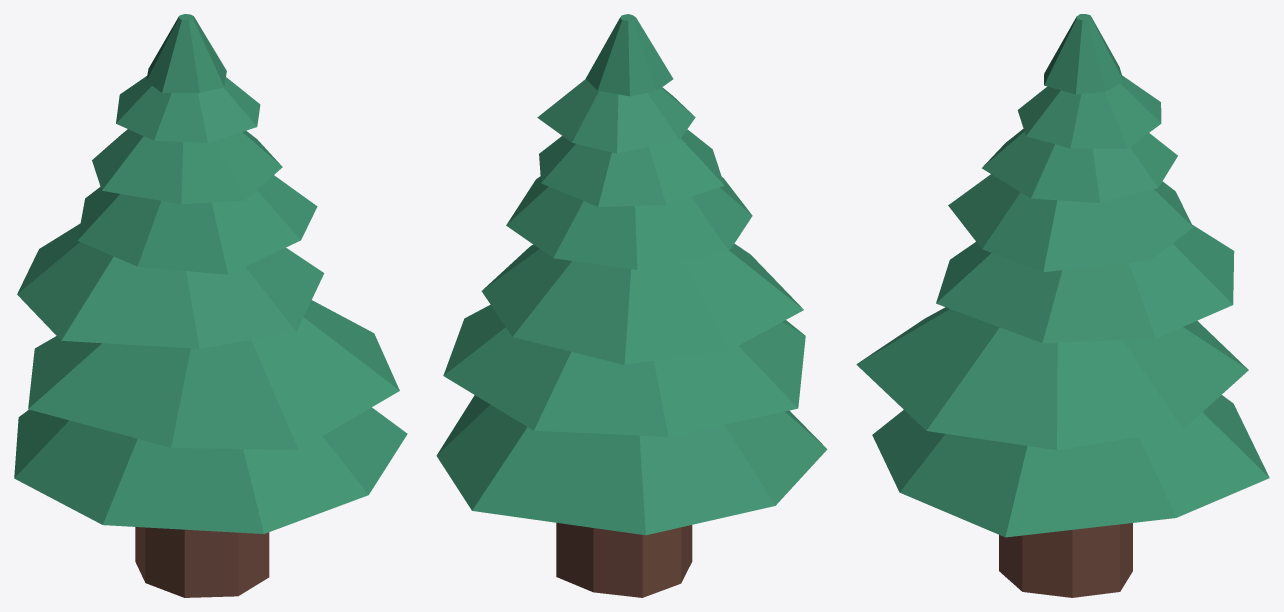
File: Tree 3.fbx
3 renders of one model, left to right at view 1: azimuth 30°, elevation 25°; view 2: azimuth 150°, elevation 25°; view 3: azimuth 270°, elevation 25°, orthographic.
Visible parts, largest first — view 1: BlätterUnten, Cube; view 2: BlätterUnten, Cube; view 3: BlätterUnten, Cube.
Part boxes in pixels (x1,y1,x2,y2): BlätterUnten: [14, 14, 407, 533]; Cube: [135, 527, 269, 597]; BlätterUnten: [436, 14, 827, 535]; Cube: [556, 523, 692, 597]; BlätterUnten: [856, 14, 1269, 537]; Cube: [999, 523, 1132, 597].
Bounding box in the file's own units: 813 × 1238 × 845.
